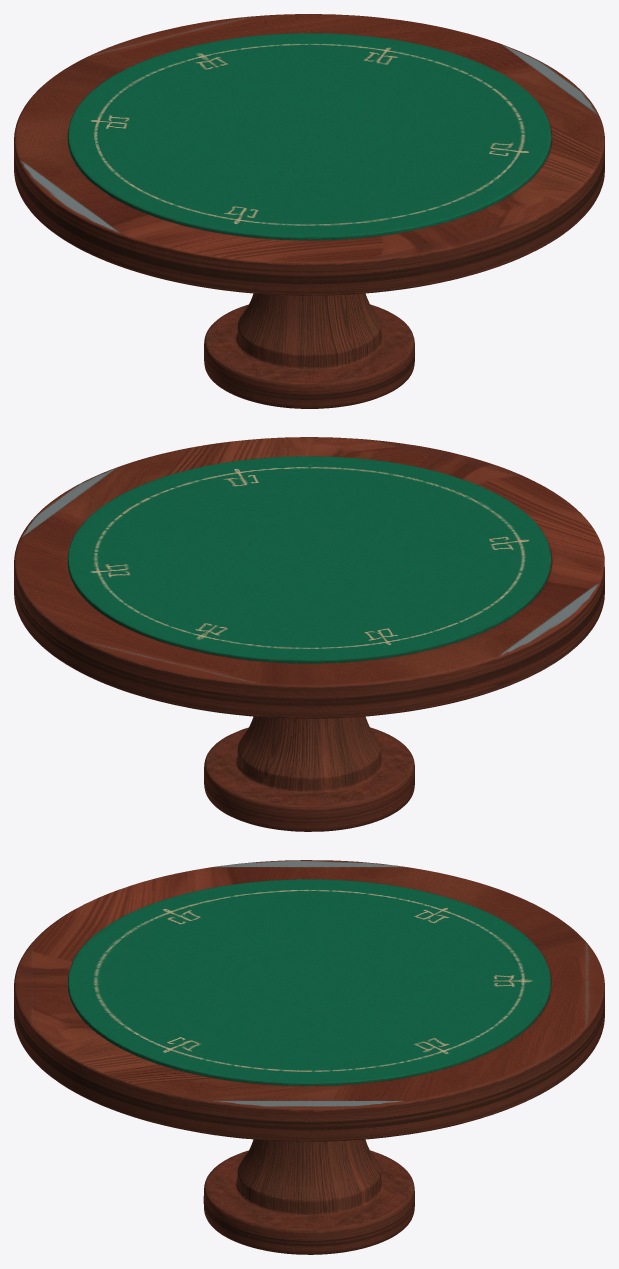
Rendered from masa.glb.
3 renders of one model, top to bottom at view 1: azimuth 30°, elevation 25°; view 2: azimuth 150°, elevation 25°; view 3: azimuth 270°, elevation 25°, orthographic.
Size of the model in its own units: 1.9 by 0.82 by 1.9.
1 material, 1 textured.
